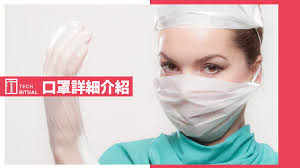Mask: (153, 23, 260, 141)
